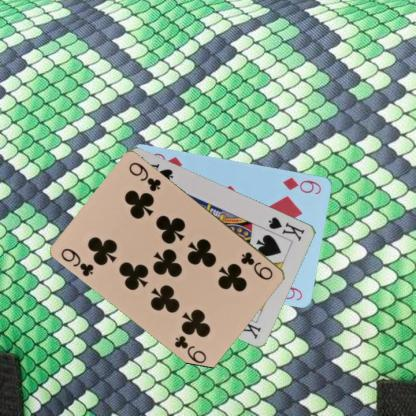6d: (280, 174, 323, 195)
9c: (58, 245, 96, 278), (238, 249, 275, 281)
Ks: (266, 214, 306, 242)
